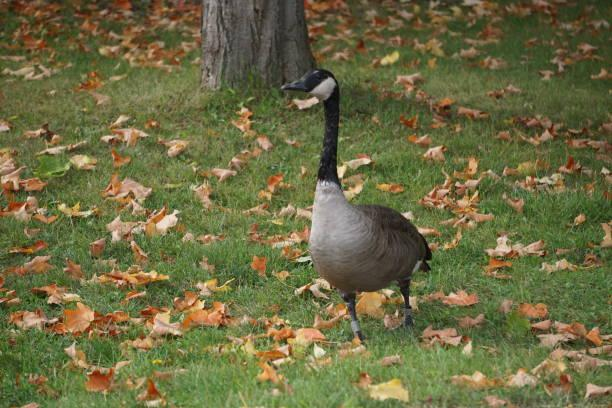Canadian-Goose: (278, 65, 434, 331)
